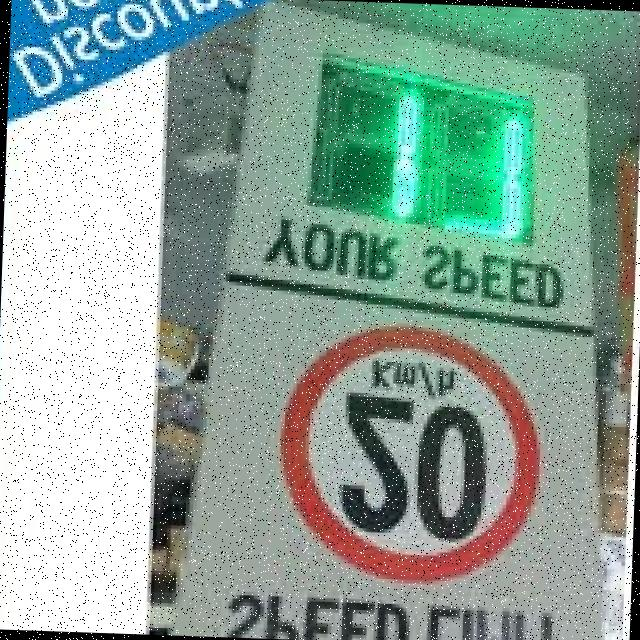speed_limit_20: (248, 307, 541, 593)
